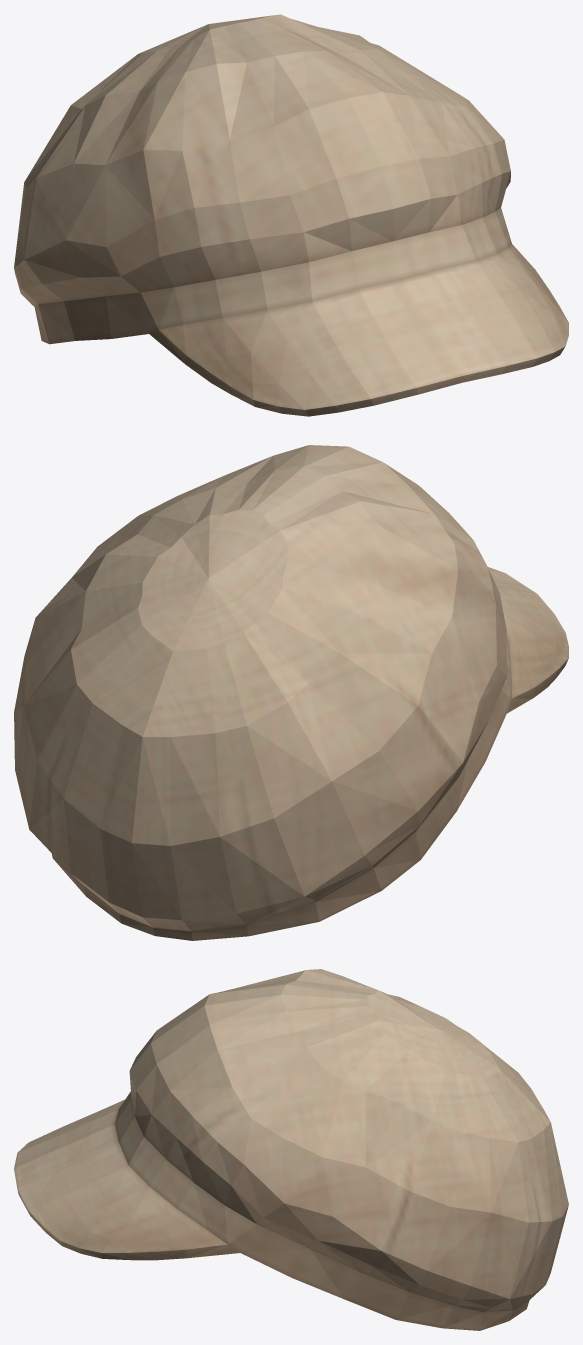
Rendered from Puffy_Cap.obj.
3 views of the same model, one above another, from view 1: azimuth 30°, elevation 25°; view 2: azimuth 150°, elevation 25°; view 3: azimuth 270°, elevation 25° (orthographic). The views are drawn at different scales.
Parts seen in each view (by area): view 1: s4studio_mesh_1_geom.000; view 2: s4studio_mesh_1_geom.000; view 3: s4studio_mesh_1_geom.000.
Boxes of the visible parts, x1,y1,x2,y2 form: s4studio_mesh_1_geom.000: [14, 14, 568, 416]; s4studio_mesh_1_geom.000: [14, 445, 568, 940]; s4studio_mesh_1_geom.000: [14, 969, 568, 1330].
Bounding box in the file's own units: 0.2244 × 0.1763 × 0.2935.
